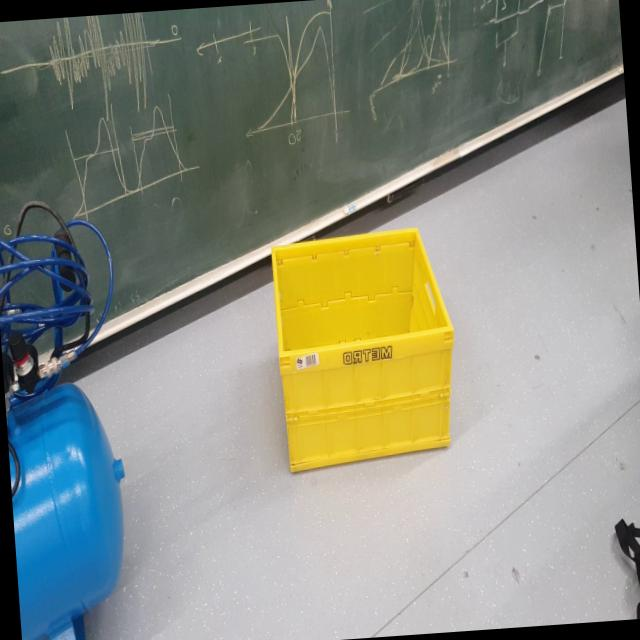box: (255, 200, 470, 505)
